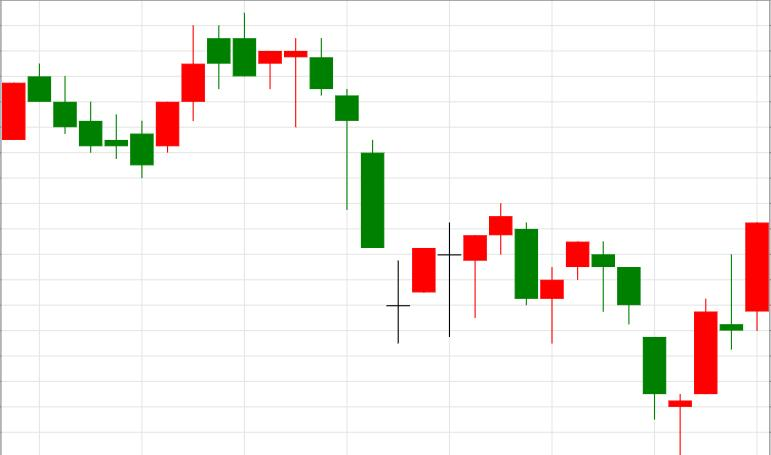morning_star_rise: (515, 220, 717, 455)
